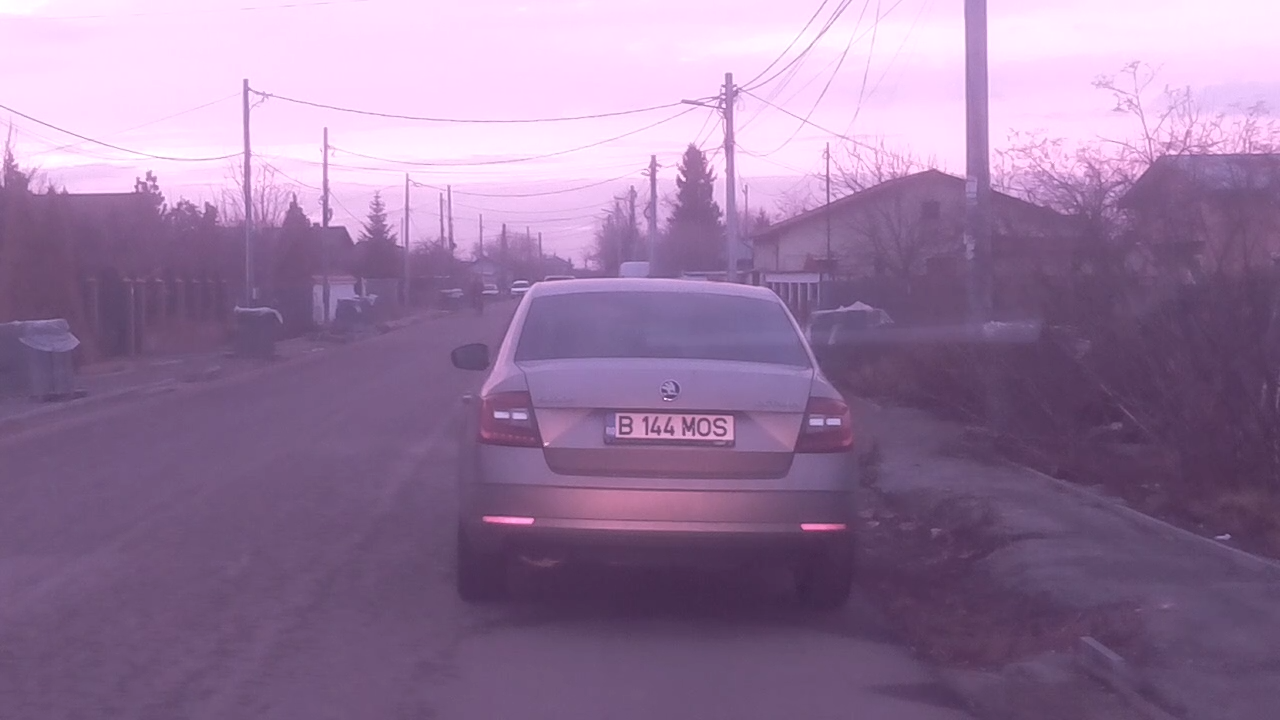license-plate: (603, 410, 735, 443)
